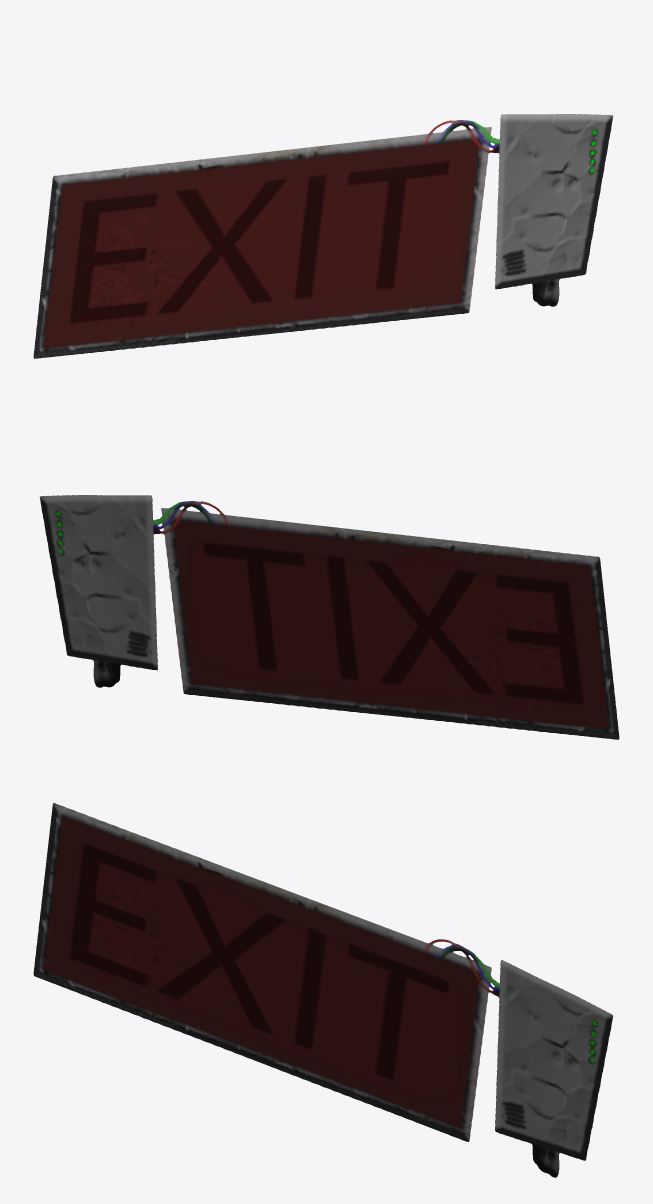
File: DeExitPlane.FBX
The picture shows the model from 3 angles, top to bottom: view 1: azimuth 30°, elevation 25°; view 2: azimuth 150°, elevation 25°; view 3: azimuth 330°, elevation 25°; orthographic projection.
Parts seen in each view (by area): view 1: DeExitPlane; view 2: DeExitPlane; view 3: DeExitPlane.
Part boxes in pixels (x1=…): DeExitPlane: x1=33, y1=114, x2=613, y2=358; DeExitPlane: x1=39, y1=495, x2=619, y2=739; DeExitPlane: x1=33, y1=803, x2=613, y2=1177.
Bounding box in the file's own units: 57.1 × 24.11 × 6.66e-15.
